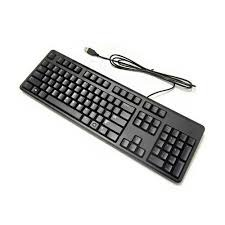keyboard: (12, 46, 207, 196)
